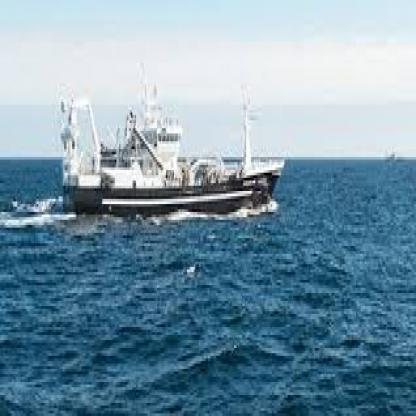fish-b: (51, 68, 292, 238)
